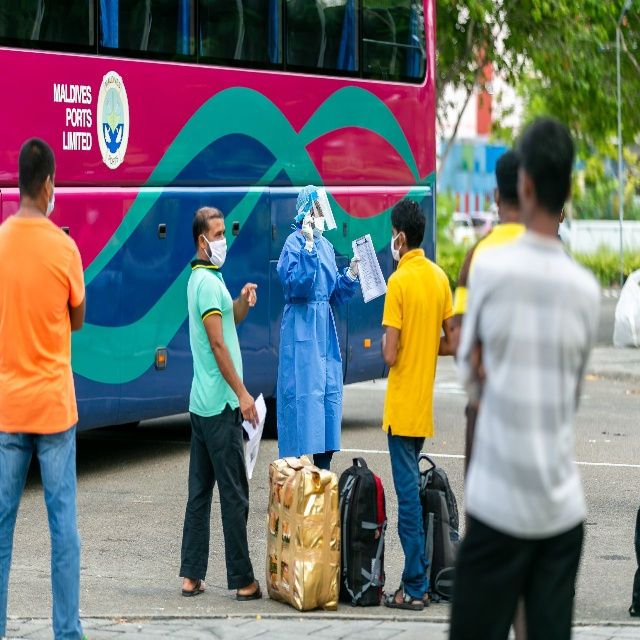Guantes: (302, 209, 313, 246), (347, 257, 359, 281)
Mascara: (208, 236, 227, 264), (313, 216, 326, 243)
Sin_guantes: (237, 389, 260, 427), (241, 280, 258, 309)
